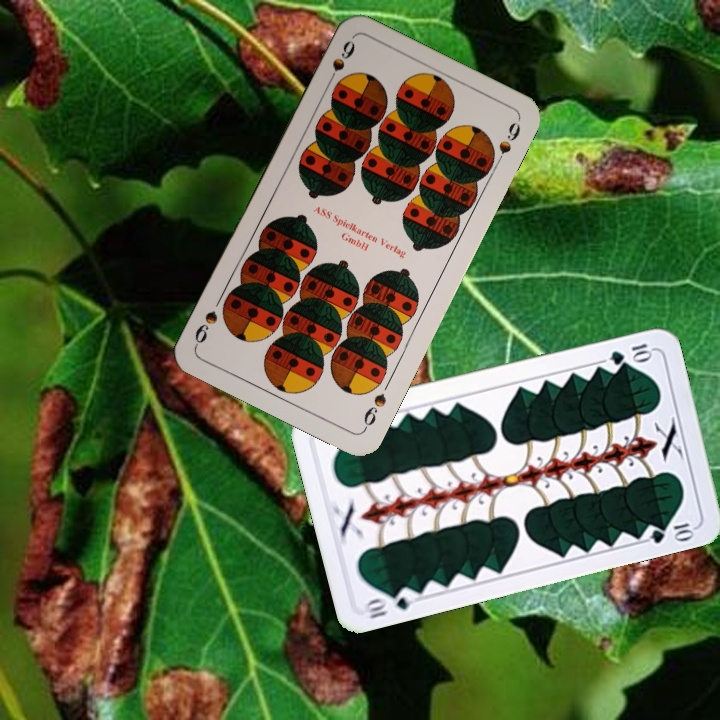G10: (359, 584, 420, 622), (606, 339, 655, 368)
S9: (322, 36, 358, 90), (359, 389, 389, 433)
